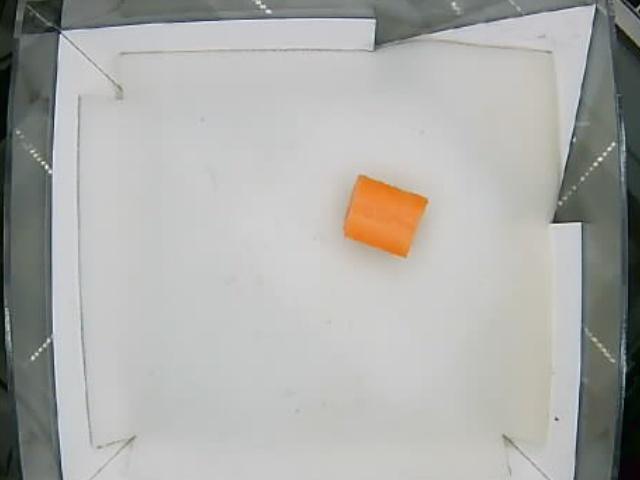Carrot: (340, 173, 429, 258)
